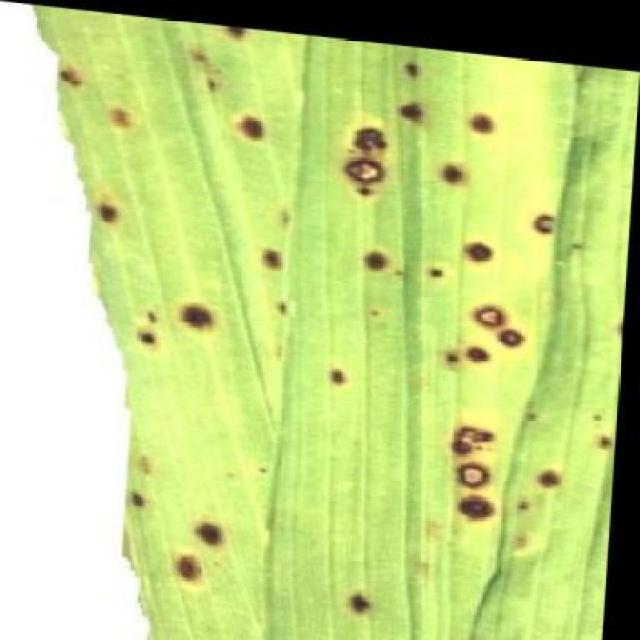Bacterial_Leaf_Blight: (333, 119, 401, 207), (468, 296, 540, 350), (454, 457, 500, 494), (524, 206, 565, 246)
Leaf_Blast: (179, 38, 238, 100), (170, 292, 232, 343), (95, 96, 156, 142), (226, 106, 283, 152), (445, 415, 503, 459), (333, 578, 384, 628), (166, 546, 214, 596), (209, 461, 276, 496), (444, 338, 504, 377), (460, 101, 508, 147), (184, 512, 236, 554), (87, 192, 135, 237), (453, 490, 502, 532), (430, 156, 478, 198), (392, 91, 437, 134), (178, 37, 230, 74), (318, 358, 364, 399), (417, 517, 465, 555), (355, 245, 402, 283), (458, 233, 502, 272), (249, 242, 294, 280), (524, 206, 565, 246), (265, 202, 307, 240), (127, 322, 170, 358), (58, 58, 98, 96), (392, 52, 434, 88), (503, 527, 543, 564), (532, 461, 571, 497), (129, 450, 168, 485), (262, 294, 304, 326), (193, 70, 236, 101), (213, 25, 262, 52), (357, 300, 395, 332), (560, 235, 602, 263), (124, 488, 161, 518), (434, 344, 468, 376), (587, 426, 618, 460), (420, 260, 452, 291), (518, 404, 554, 431), (132, 304, 170, 328), (419, 517, 447, 549), (566, 64, 600, 90), (246, 460, 279, 485), (512, 495, 542, 520), (606, 310, 628, 344), (582, 406, 610, 428), (455, 629, 507, 640)
